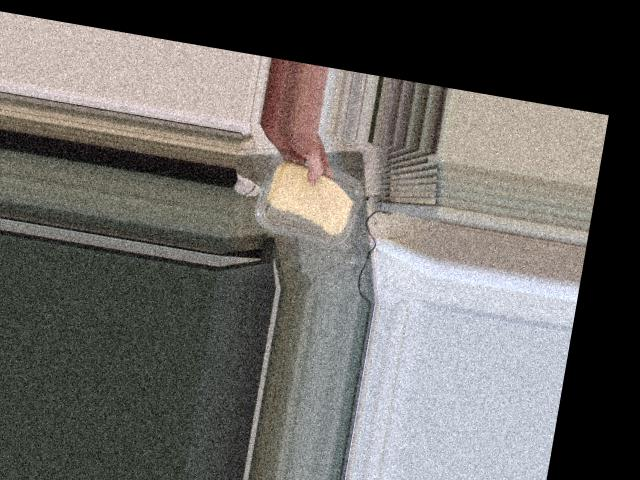cheese: (253, 152, 365, 241)
